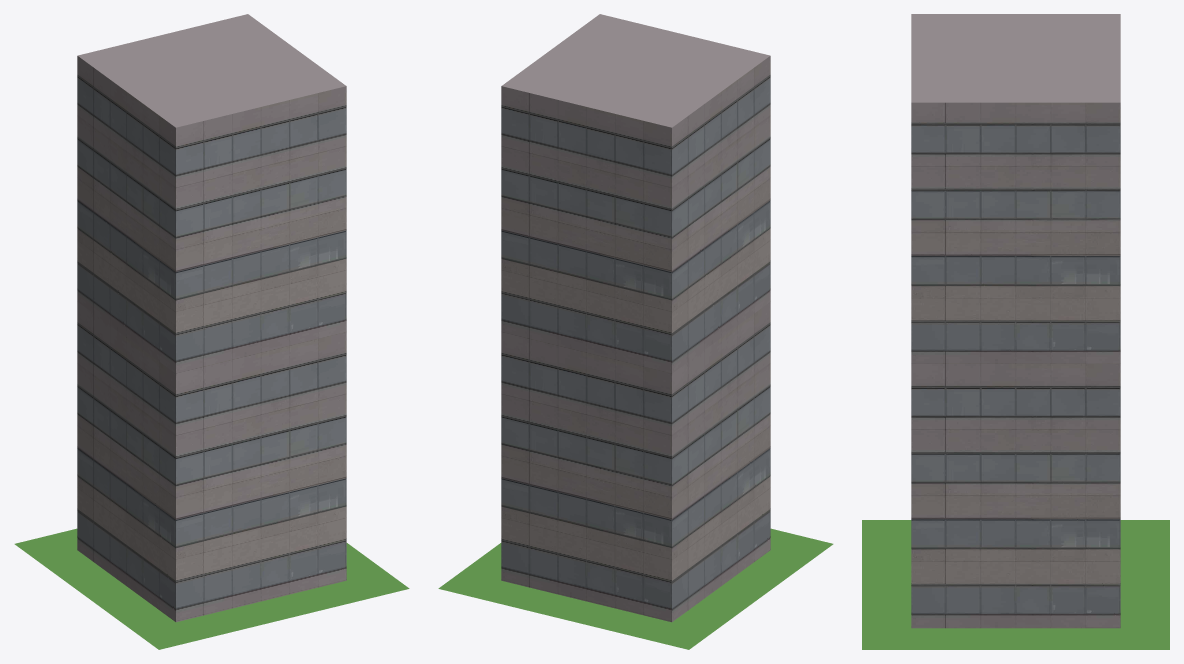
The model's file is Building.005.gltf.
The picture shows the model from 3 angles, left to right: view 1: azimuth 30°, elevation 25°; view 2: azimuth 150°, elevation 25°; view 3: azimuth 270°, elevation 25°; orthographic projection. The views are drawn at different scales.
Parts seen in each view (by area): view 1: Building.005, Plane.005; view 2: Building.005, Plane.005; view 3: Building.005, Plane.005.
Part boxes in pixels (<box>): Building.005: <box>77,14,346,622</box>; Plane.005: <box>14,528,409,649</box>; Building.005: <box>501,14,770,622</box>; Plane.005: <box>438,528,833,649</box>; Building.005: <box>911,14,1120,628</box>; Plane.005: <box>862,520,1169,649</box>.
Size of the model in its own units: 10.5 by 19.81 by 10.5.
Materials: 2 (1 with a texture image).
